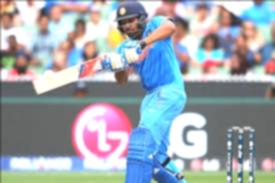batsman: (94, 5, 192, 183)
